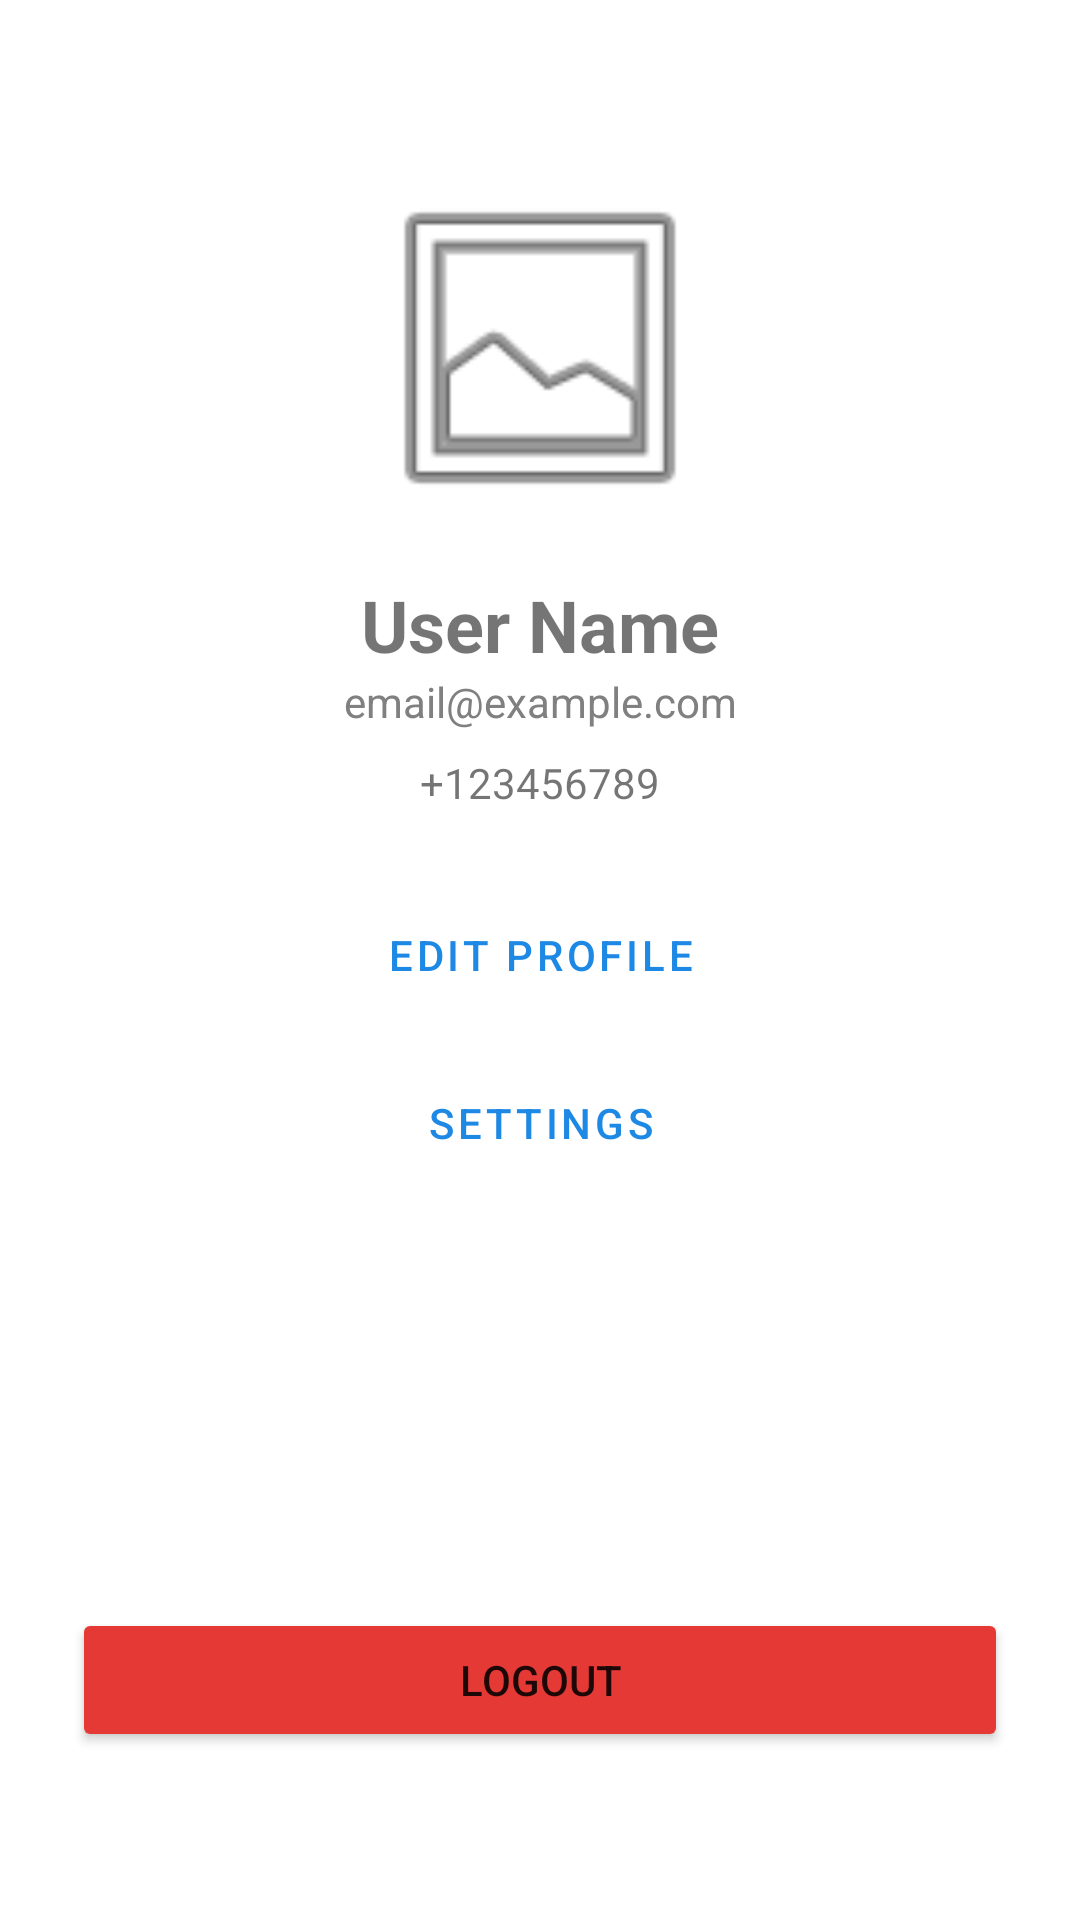

Where icons sit on this 1080px x 1920px app screen, as box=[x1, y1, x2, y2]:
gallery: box=[404, 212, 676, 484]
